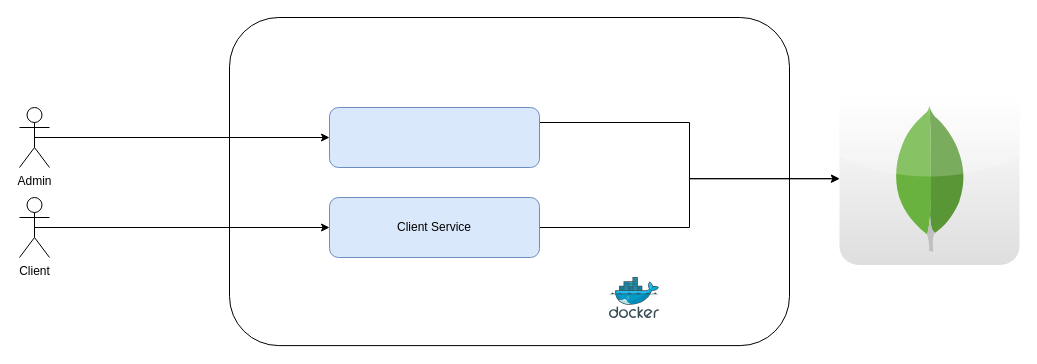
The diagram is 1037 pixels wide and 364 high, and some of its shapes have lost their labels. The centre of each missing label's shape, as x and y in pixels:
Admin Service: the point at 434,137
MongoDB: the point at 929,178
